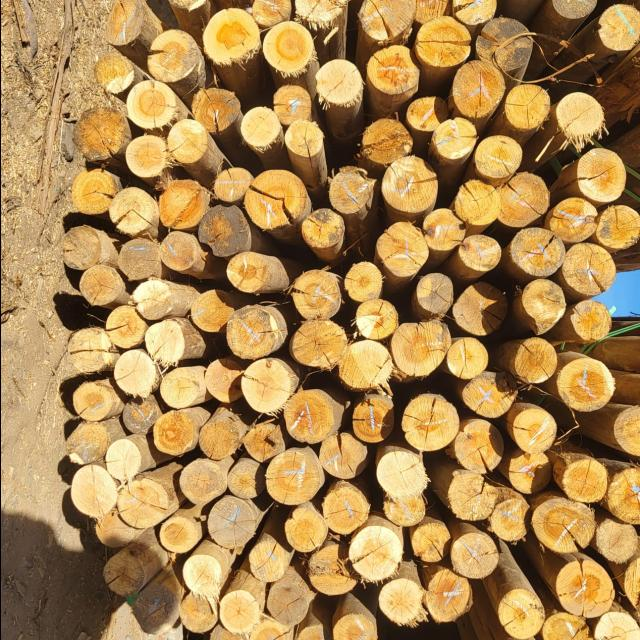package: (57, 0, 640, 640), (486, 314, 640, 640), (484, 0, 640, 173)
